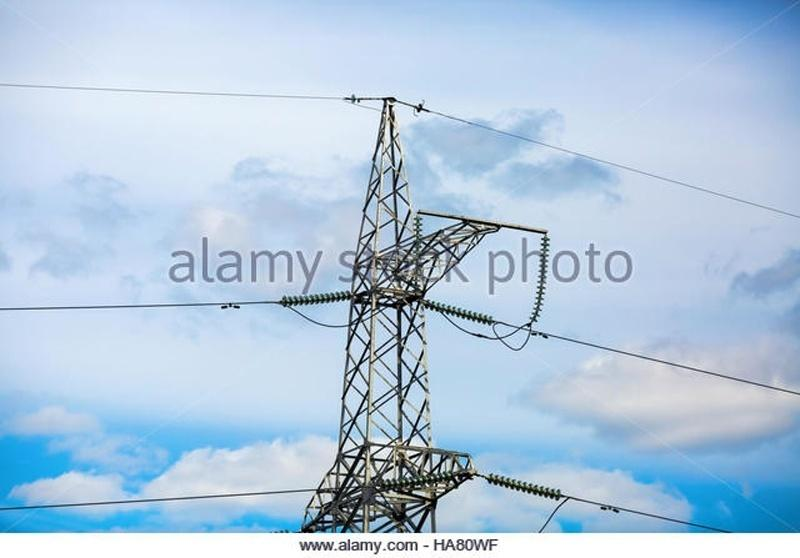power_tower: (277, 84, 478, 537)
